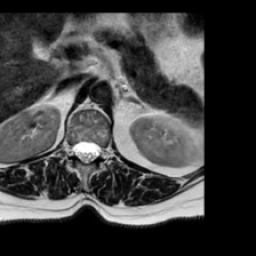CCS_normal: (81, 131, 91, 171)
LFS_normal: (99, 134, 105, 167)
LLS_normal: (91, 132, 100, 168)
RFS_normal: (65, 134, 73, 164)
RLS_normal: (72, 132, 81, 168)
